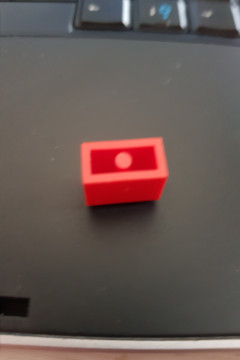1x2 red: (80, 136, 169, 206)
